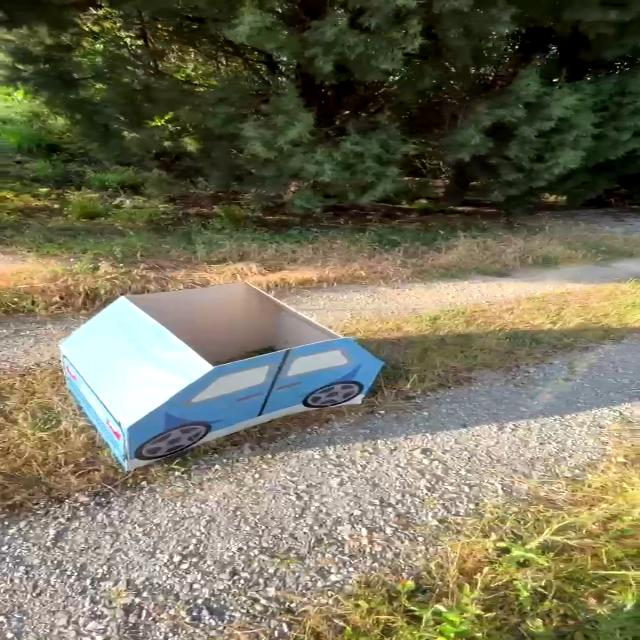blue_car: (11, 251, 409, 476)
